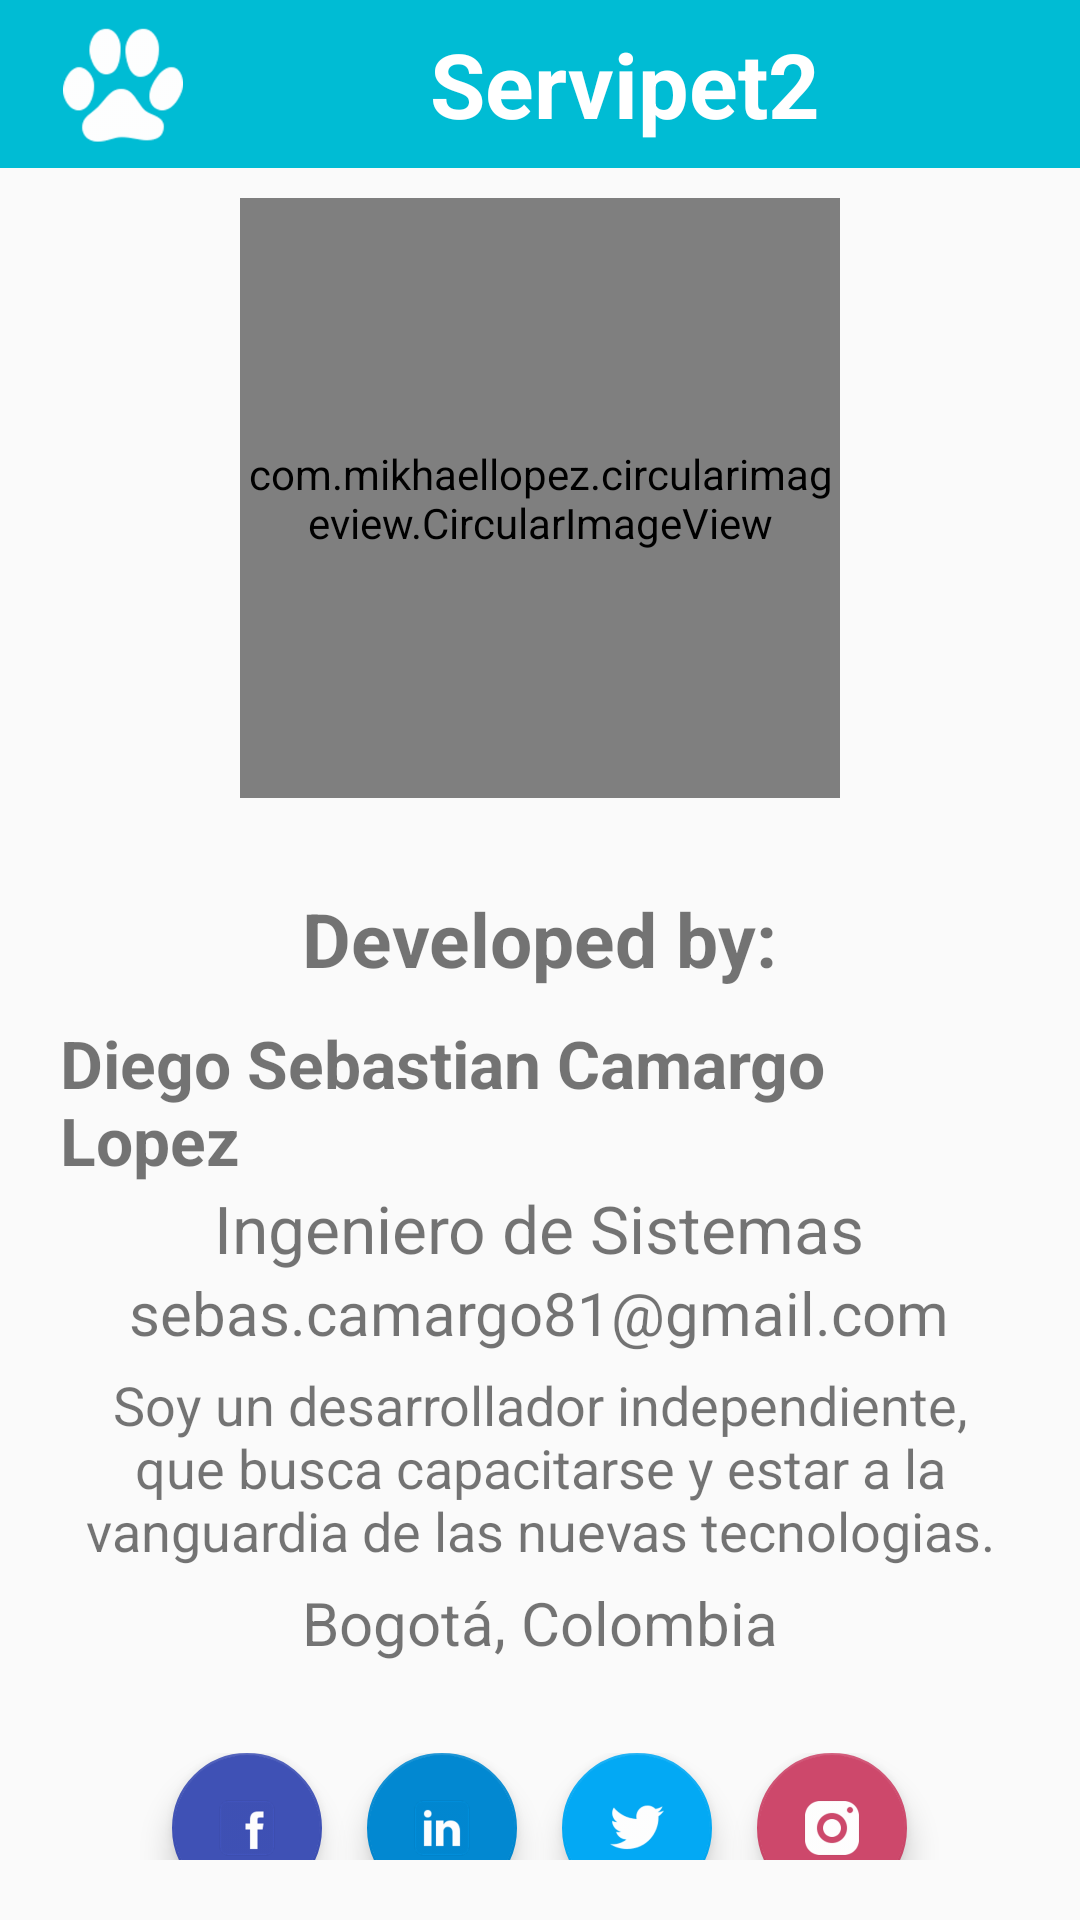

Where to tap for icons on this 1080*1920 app screen, as (x=x, y=y):
dogpaw: (x=123, y=85)
